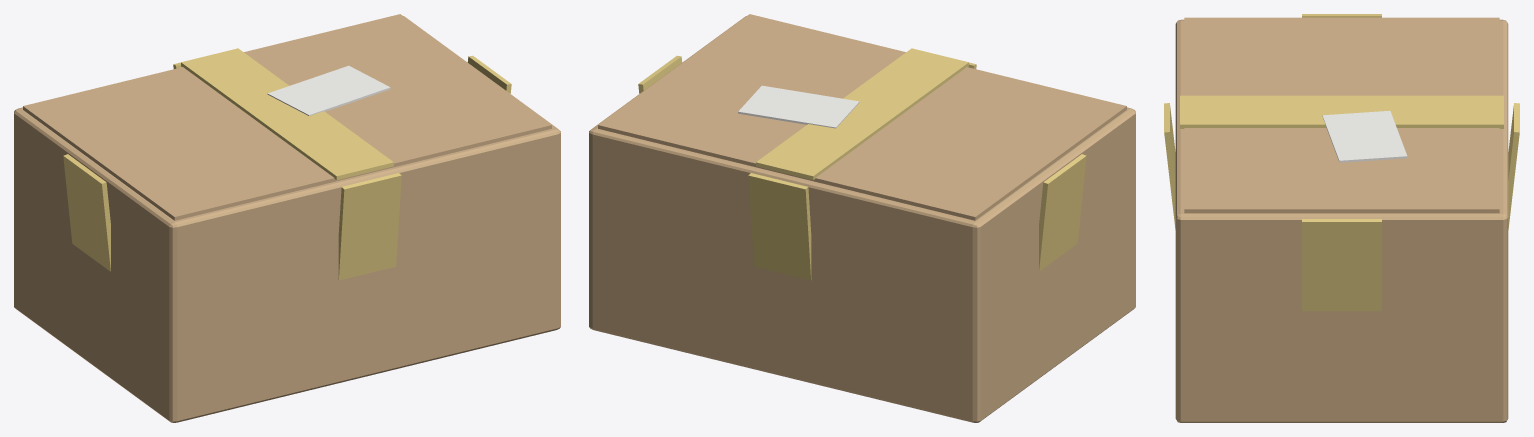
File: delivery_box_low.glb
3 renders of one model, left to right at view 1: azimuth 30°, elevation 25°; view 2: azimuth 150°, elevation 25°; view 3: azimuth 270°, elevation 25°, orthographic. The views are drawn at different scales.
Visible parts, largest first — view 1: DeliveryBox_Body, DeliveryBox_TopPanel, DeliveryBox_TapeTop, DeliveryBox_TapeFront, DeliveryBox_TapeLeft, DeliveryBox_LabelTop; view 2: DeliveryBox_Body, DeliveryBox_TopPanel, DeliveryBox_TapeTop, DeliveryBox_TapeBack, DeliveryBox_TapeLeft, DeliveryBox_LabelTop; view 3: DeliveryBox_Body, DeliveryBox_TopPanel, DeliveryBox_TapeTop, DeliveryBox_TapeRight, DeliveryBox_LabelTop, DeliveryBox_TapeBack, DeliveryBox_TapeFront.
Part boxes in pixels (x1=…): DeliveryBox_Body: x1=14, y1=16, x2=560, y2=422; DeliveryBox_TopPanel: x1=23, y1=14, x2=551, y2=220; DeliveryBox_TapeTop: x1=181, y1=48, x2=393, y2=179; DeliveryBox_TapeFront: x1=338, y1=173, x2=401, y2=280; DeliveryBox_TapeLeft: x1=63, y1=154, x2=110, y2=271; DeliveryBox_LabelTop: x1=267, y1=65, x2=390, y2=115; DeliveryBox_Body: x1=589, y1=16, x2=1135, y2=422; DeliveryBox_TopPanel: x1=598, y1=14, x2=1126, y2=220; DeliveryBox_TapeTop: x1=756, y1=48, x2=968, y2=179; DeliveryBox_TapeBack: x1=748, y1=173, x2=811, y2=280; DeliveryBox_TapeLeft: x1=1039, y1=154, x2=1086, y2=271; DeliveryBox_LabelTop: x1=738, y1=85, x2=859, y2=128; DeliveryBox_Body: x1=1175, y1=19, x2=1508, y2=422; DeliveryBox_TopPanel: x1=1184, y1=17, x2=1499, y2=213; DeliveryBox_TapeTop: x1=1180, y1=95, x2=1503, y2=128; DeliveryBox_TapeRight: x1=1302, y1=219, x2=1381, y2=311; DeliveryBox_LabelTop: x1=1322, y1=110, x2=1407, y2=162; DeliveryBox_TapeBack: x1=1508, y1=103, x2=1519, y2=229; DeliveryBox_TapeFront: x1=1164, y1=103, x2=1175, y2=229.
Size of the model in its own units: 1.72 by 0.832 by 1.24.
